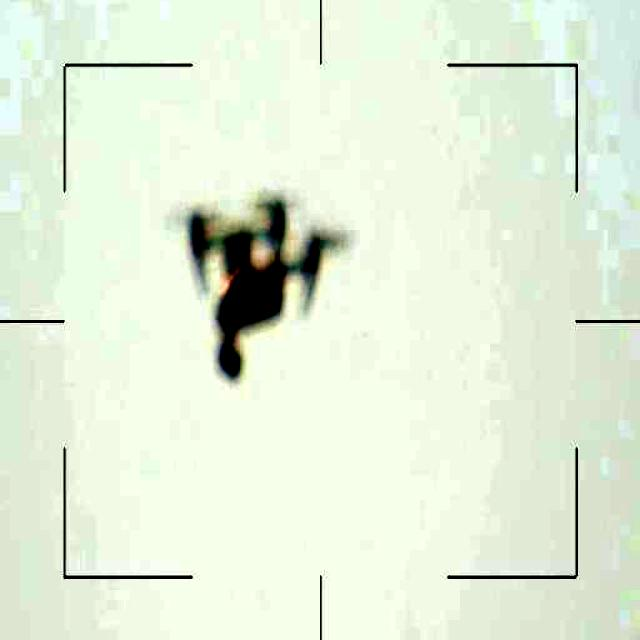bird: (170, 198, 339, 396)
